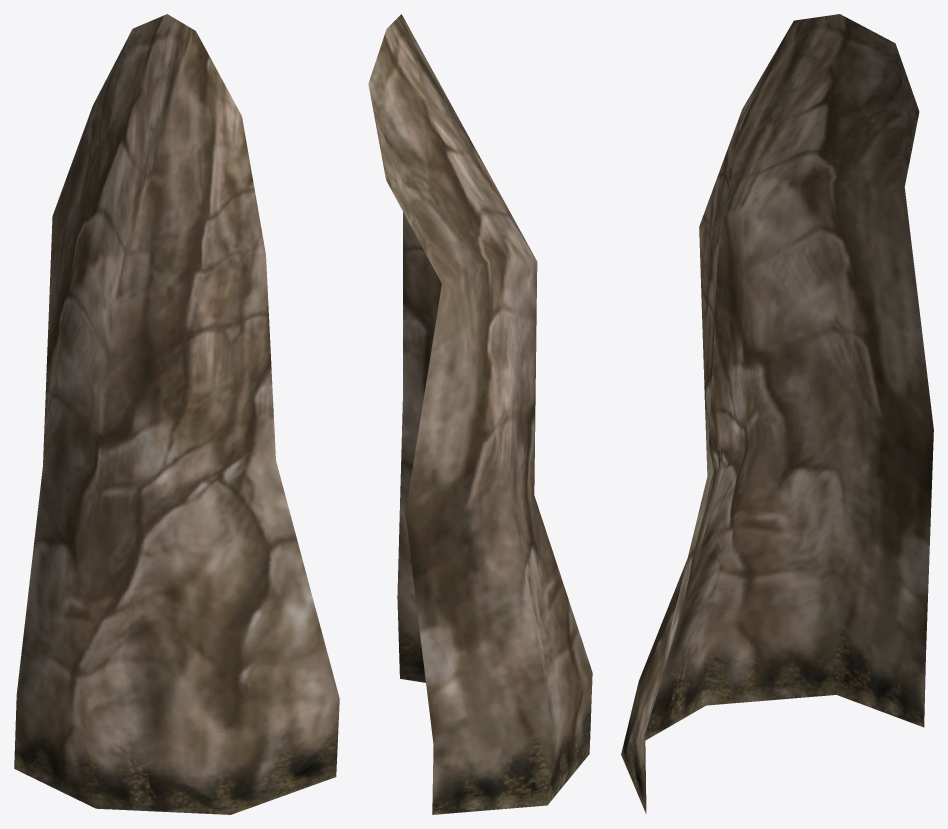
The model's file is OVERHILL_A_01_ROCK_SLAB_05.fbx.
3 views of the same model, side by side, from view 1: azimuth 30°, elevation 25°; view 2: azimuth 150°, elevation 25°; view 3: azimuth 270°, elevation 25° (orthographic). The views are drawn at different scales.
Parts seen in each view (by area): view 1: OVERHILL_A_01_ROCK_SLAB_05; view 2: OVERHILL_A_01_ROCK_SLAB_05; view 3: OVERHILL_A_01_ROCK_SLAB_05.
Part boxes in pixels (left/top/right/bottom): OVERHILL_A_01_ROCK_SLAB_05: left=14, top=14, right=339, bottom=814; OVERHILL_A_01_ROCK_SLAB_05: left=368, top=14, right=592, bottom=814; OVERHILL_A_01_ROCK_SLAB_05: left=621, top=14, right=933, bottom=813.
Bounding box in the file's own units: 20959 × 60772 × 22637.
2 materials, 2 textured.
